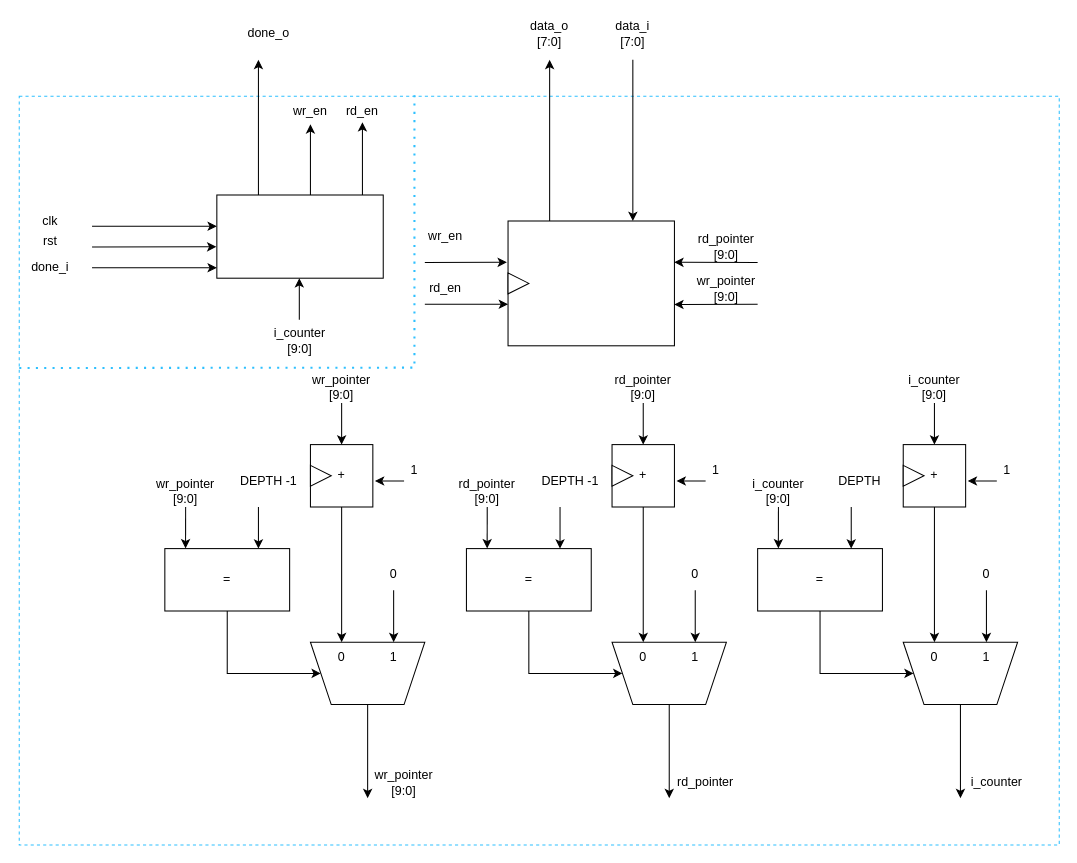
The diagram is 1077 pixels wide and 863 high, and some of its shapes have lost their labels. The shapes that lost their labels are listed below. From the top down, each one's box as (x1, y1, x2, y2) in pixels, then its label:
(216, 194, 383, 278): FSM
(507, 220, 674, 346): mem [0:DEPTH-1]
